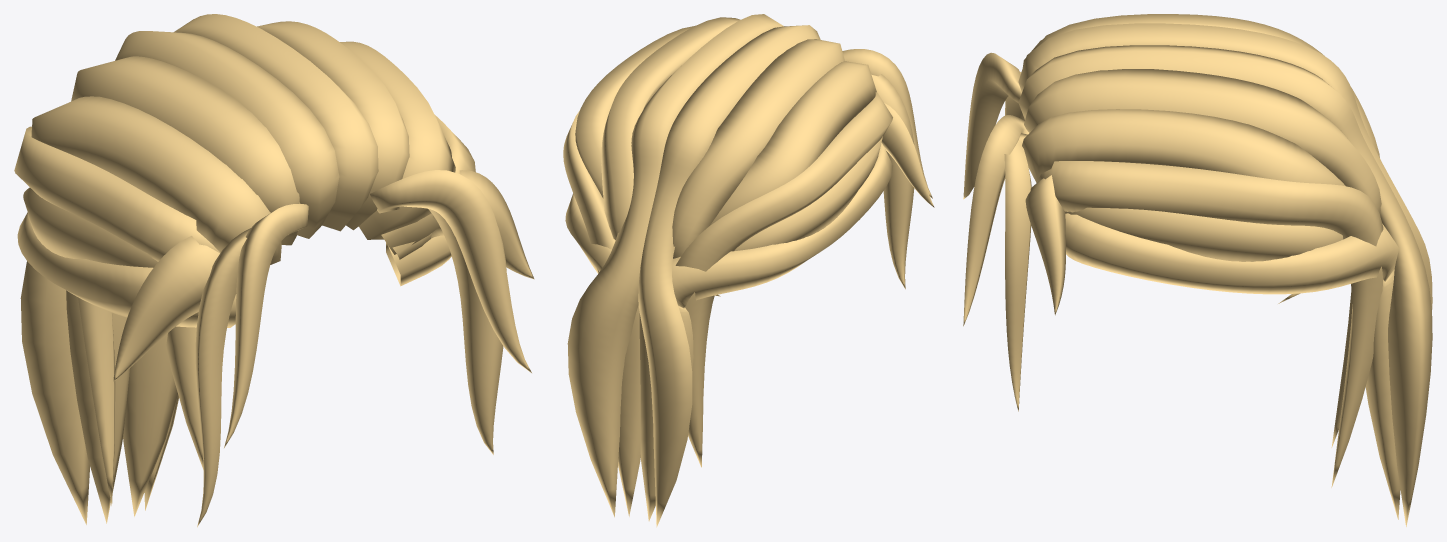
Rendered from IrienHair.fbx.
3 renders of one model, left to right at view 1: azimuth 30°, elevation 25°; view 2: azimuth 150°, elevation 25°; view 3: azimuth 270°, elevation 25°, orthographic. The views are drawn at different scales.
Parts seen in each view (by area): view 1: Body.001; view 2: Body.001; view 3: Body.001.
Boxes of the visible parts, box(x1,y1,x2,y2) form: Body.001: box(14, 14, 534, 527); Body.001: box(563, 14, 934, 527); Body.001: box(963, 14, 1432, 526).
Size of the model in its own units: 125 by 160 by 142.
